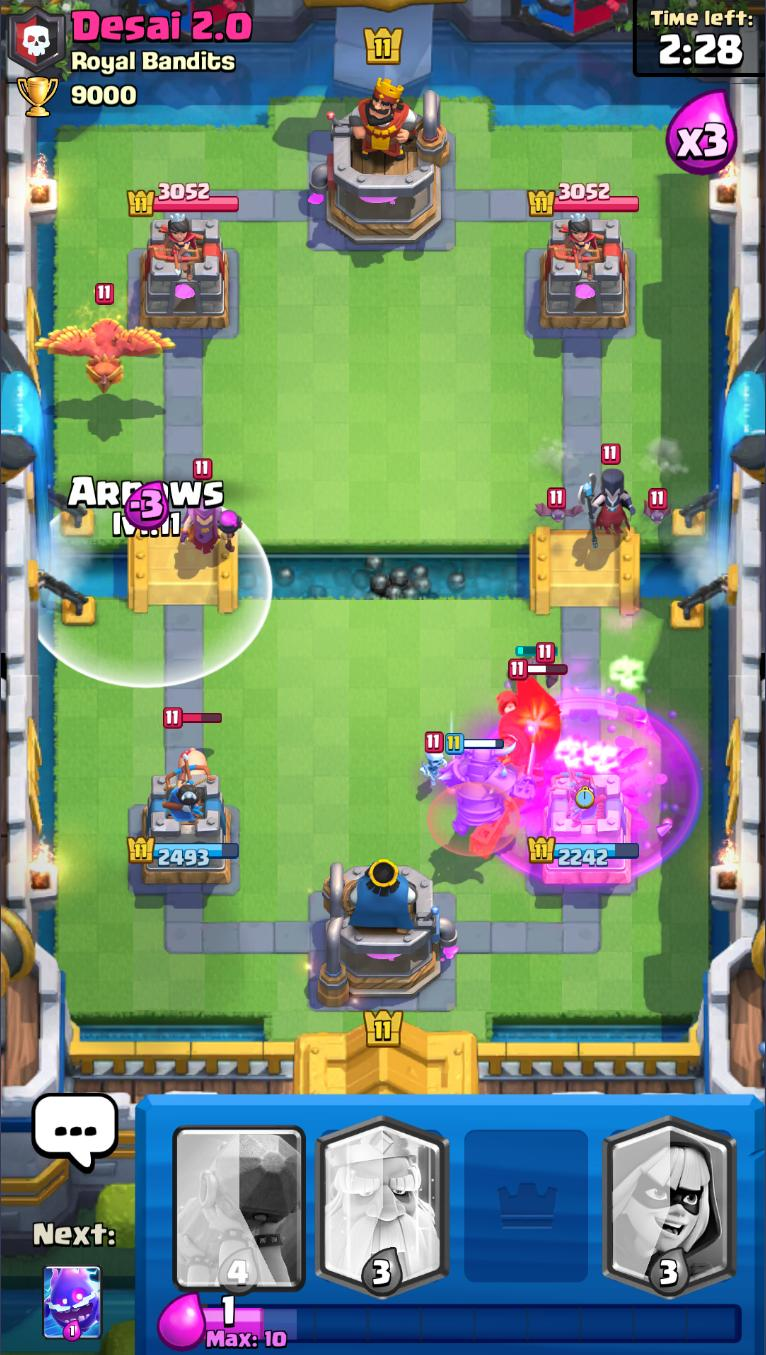BanditDeck: (597, 1097, 743, 1297)
Bat: (533, 487, 585, 522), (524, 642, 562, 688), (639, 488, 678, 527)
BattleRamDeck: (167, 1095, 311, 1295)
ElectroSpiritNext: (42, 1262, 102, 1342)
Elixir: (201, 1296, 743, 1350)
Empty: (455, 1096, 598, 1297)
EnemyTower: (138, 215, 232, 331), (539, 215, 632, 331)
KingTower: (310, 79, 451, 248)
MotherWitch: (179, 459, 241, 562)
MyKingTower: (314, 857, 459, 1008)
MyPekka: (433, 733, 539, 834)
MyPrincessTower: (126, 773, 242, 889), (528, 770, 641, 889)
MyPrincessTowerHP: (125, 836, 241, 870), (527, 835, 641, 868)
NightWitch: (578, 444, 638, 547)
Phoenix: (36, 284, 179, 397)
Pig: (162, 705, 224, 775)
PrincessTower: (149, 215, 203, 277), (551, 215, 604, 273)
Rage: (476, 699, 698, 876)
RoyaleGhostDeck: (310, 1095, 457, 1296)
Skeleton: (495, 723, 531, 775), (420, 730, 449, 785)
SkeletonKing: (491, 660, 568, 777)
TowerPrincessHP: (127, 182, 240, 217), (528, 182, 641, 216)
